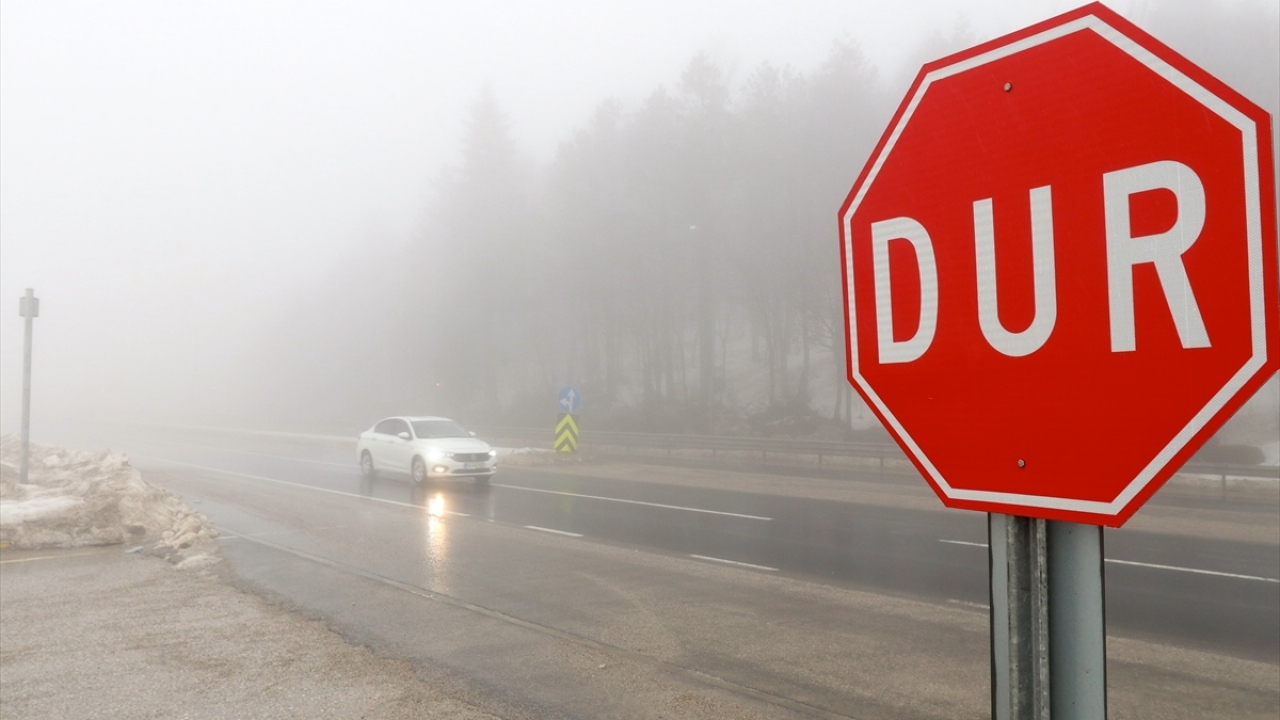dur: (833, 2, 1279, 531)
otomobil: (337, 396, 503, 509)
